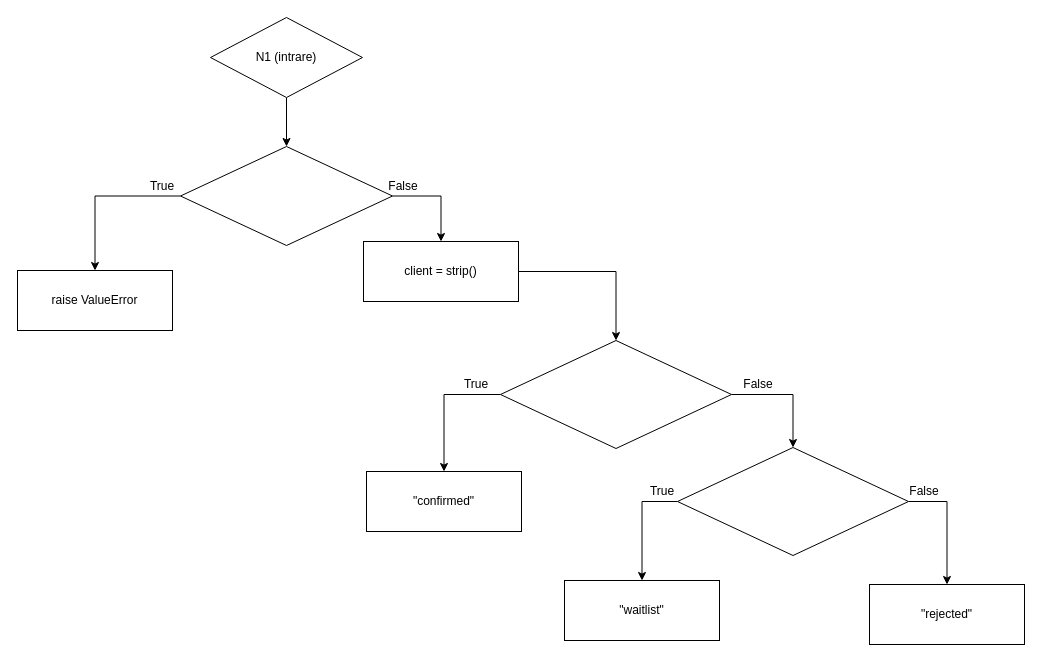
The diagram is 1042 pixels wide and 662 high, and some of its shapes have lost their labels. Each missing label, with the box of its shape:
if booked_spots < max_spots: (500, 340, 732, 448)
if len(waitlist) < 5: (676, 446, 908, 556)
if not client_name or not client_name.strip(): (180, 146, 392, 246)
